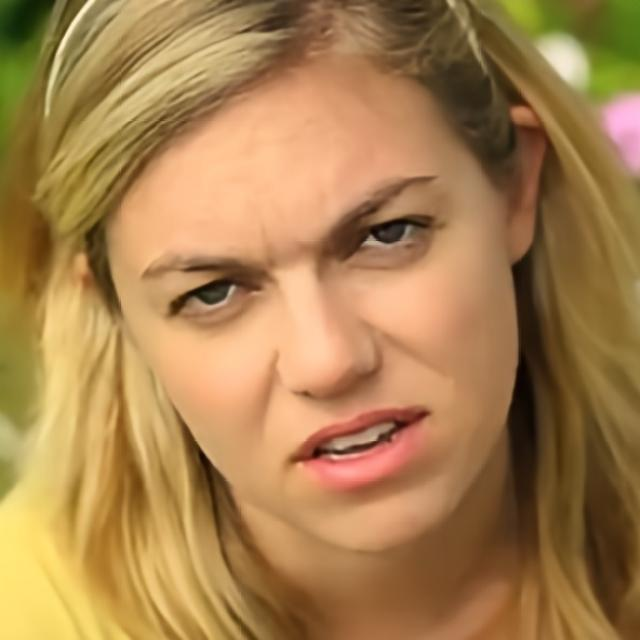disgust: (103, 42, 519, 554)
